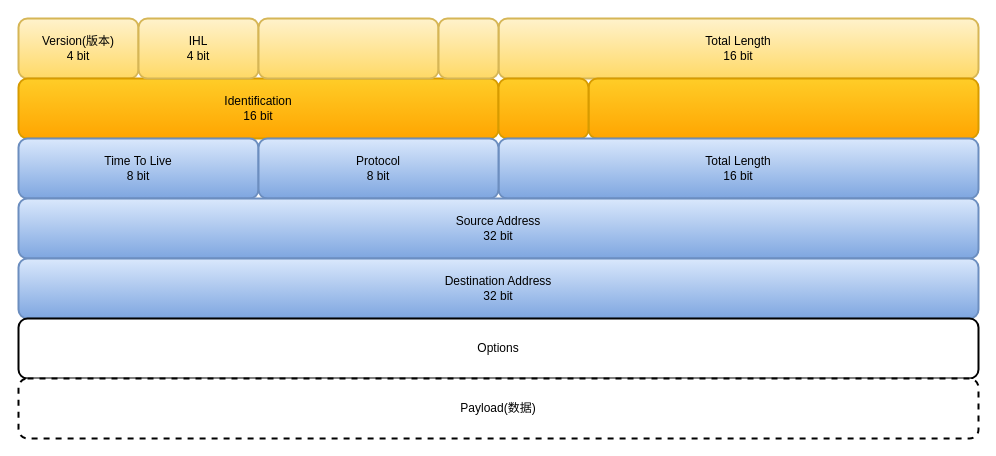
Image size: 996x456. Some labels were removed from this diagram. Here are the shapes that lost their labels. From the top down, the box of each, then its label:
(257, 17, 439, 79): DSCP 6 bit
(437, 17, 499, 79): ECN 2 bit
(497, 77, 589, 139): Flags 3 bit
(587, 77, 979, 139): Fragment Offset 13 bit
